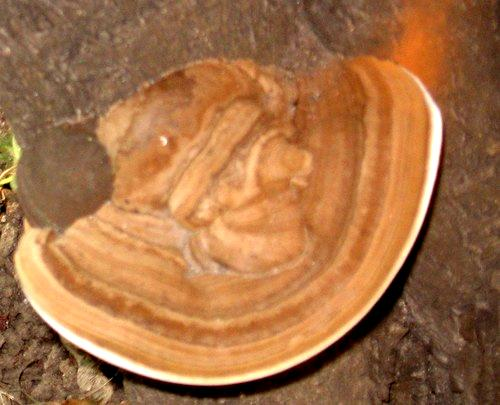Ganoderma - Fruit Body: (16, 59, 445, 388)
